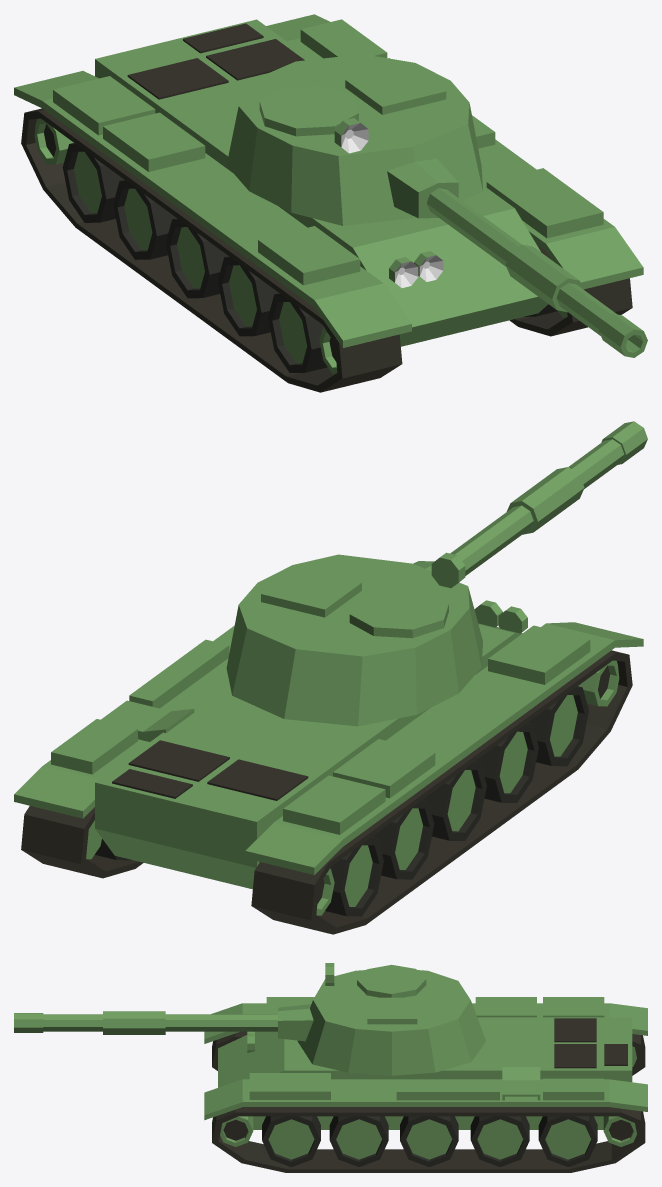
Rendered from Sketchfab_2018_08_17_18_39_04.fbx.
The picture shows the model from 3 angles, top to bottom: view 1: azimuth 30°, elevation 25°; view 2: azimuth 150°, elevation 25°; view 3: azimuth 270°, elevation 25°; orthographic projection. The views are drawn at different scales.
Parts seen in each view (by area): view 1: Tank, Treads, Turret, Compartments, Barrel, Box, Grill, BodyLamp, TurretLamp; view 2: Tank, Treads, Turret, Compartments, Box, Barrel, Grill, BodyLamp, TurretLamp; view 3: Treads, Tank, Turret, Compartments, Barrel, Box, Grill.
Part boxes in pixels (box(x1,y1,x2,y2)): Tank: box(14, 14, 643, 347); Treads: box(21, 108, 632, 392); Turret: box(226, 54, 483, 225); Compartments: box(53, 19, 603, 285); Barrel: box(387, 159, 647, 357); Box: box(259, 64, 446, 136); Grill: box(127, 23, 304, 99); BodyLamp: box(389, 251, 443, 287); TurretLamp: box(334, 118, 368, 153); Tank: box(14, 622, 643, 889); Treads: box(21, 650, 632, 934); Turret: box(226, 554, 482, 726); Compartments: box(51, 625, 590, 834); Box: box(261, 567, 448, 638); Barrel: box(413, 421, 647, 575); Grill: box(112, 740, 308, 800); BodyLamp: box(474, 600, 527, 633); TurretLamp: box(431, 552, 465, 588); Treads: box(212, 1031, 645, 1172); Tank: box(204, 1003, 647, 1129); Turret: box(297, 970, 486, 1075); Compartments: box(249, 997, 604, 1100); Barrel: box(14, 1004, 313, 1041); Box: box(357, 964, 426, 1024); Grill: box(554, 1018, 627, 1068).
Bounding box in the file's own units: 366 × 249 × 992.
